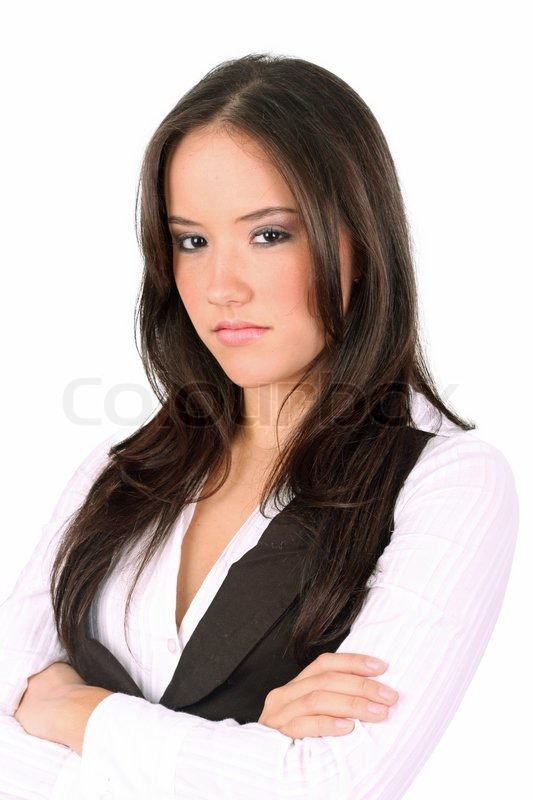angry: (147, 178, 352, 393)
